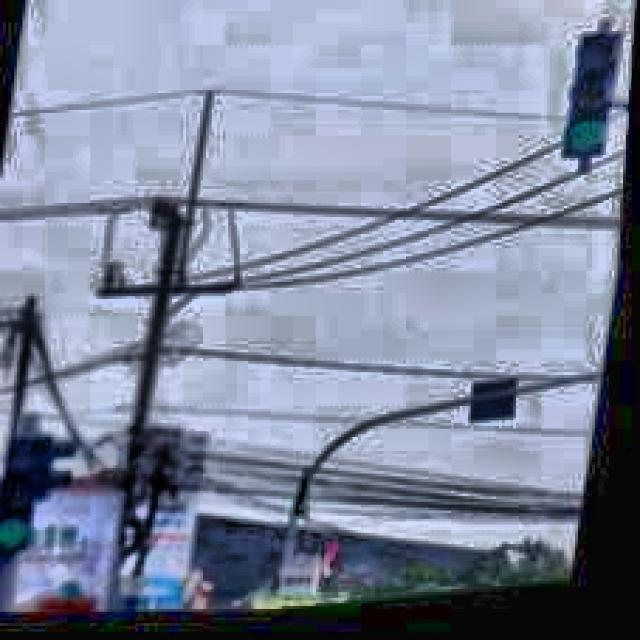green: (562, 39, 628, 175), (1, 432, 55, 556)
